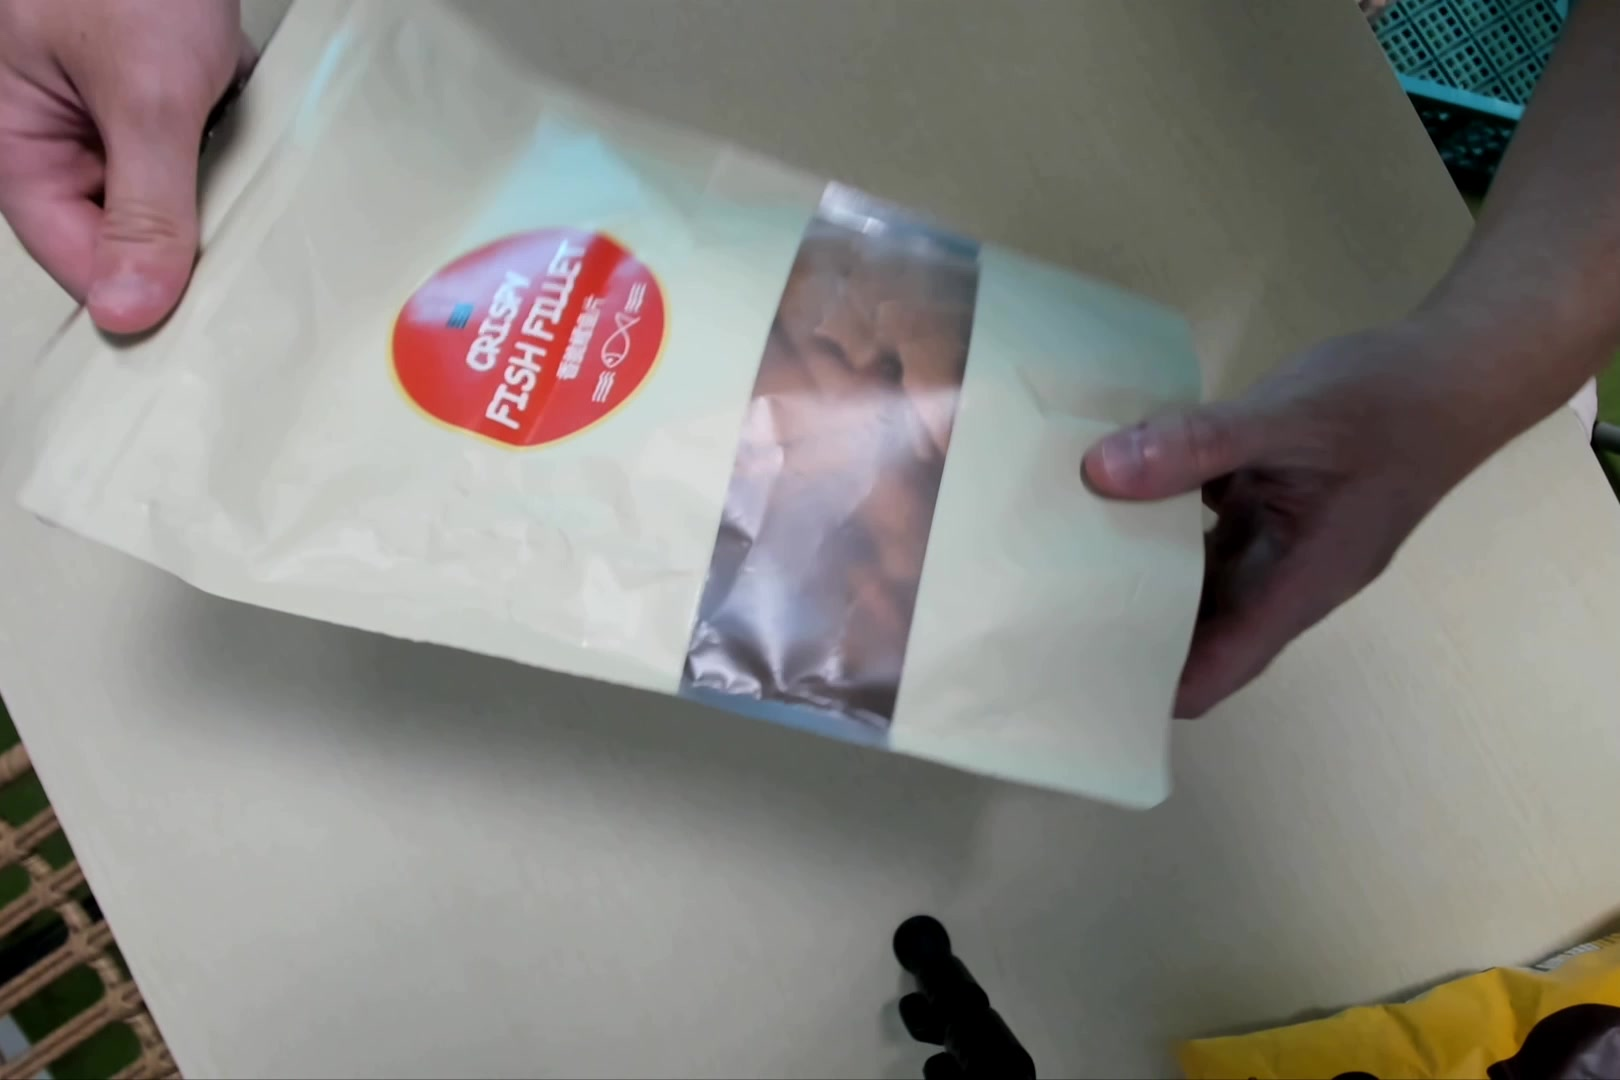PotatoChipsKeropok_100-199g_NonHalal_NonHealthy: (27, 16, 1207, 824)
